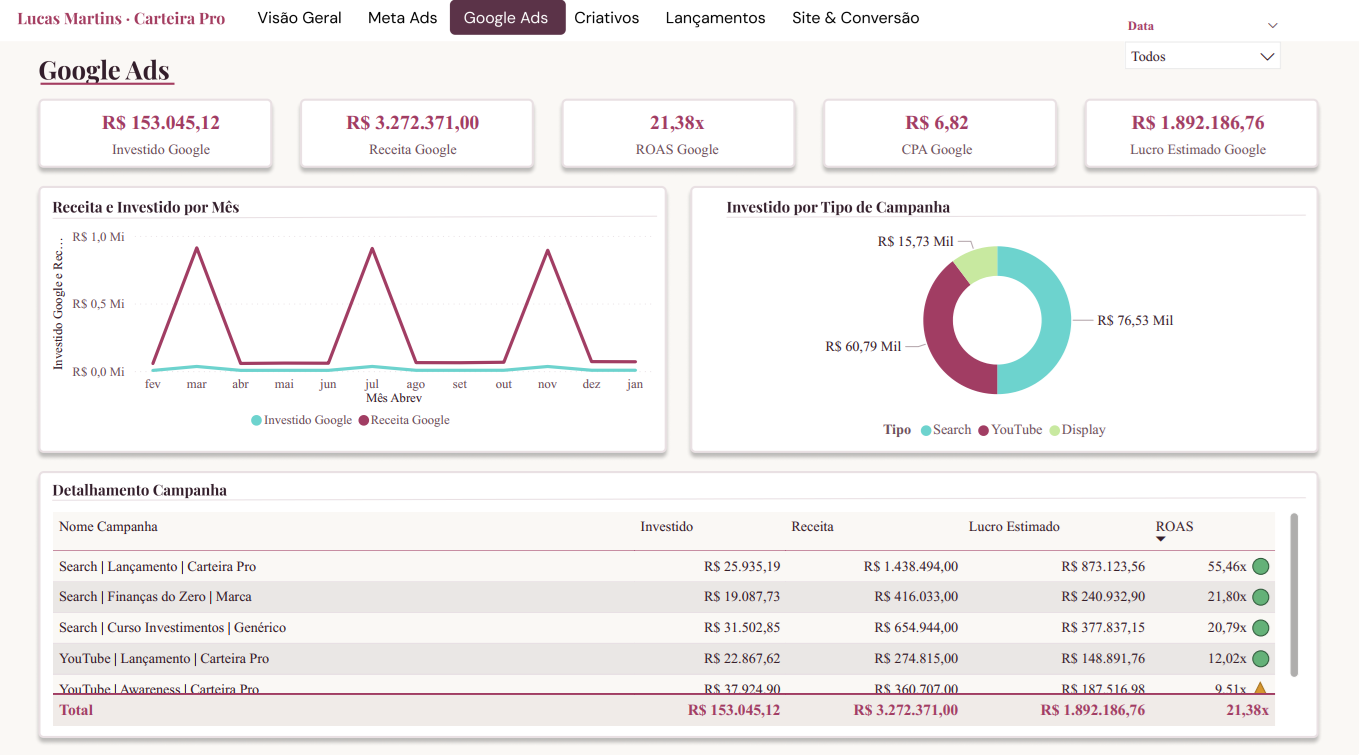

What the dashboard file says about the page in this screenshot:
{"tool":"powerbi","page":{"name":"Google","canvas":[1280,720],"ordinal":2},"visuals":[{"type":"card","fields":{"Values":["Medidas.Investido Google"]},"box":[45.7,98.6,214.3,67.1],"z":0},{"type":"card","fields":{"Values":["Medidas.Receita Google"]},"box":[287.1,98.6,205.7,67.1],"z":1000},{"type":"card","fields":{"Values":["Medidas.ROAS Google"]},"box":[541.4,98.6,195.7,67.1],"z":2000},{"type":"card","fields":{"Values":["Medidas.CPA Google"]},"box":[785.7,98.6,195.7,67.1],"z":3000},{"type":"lineChart","title":"Investido e Receita","fields":{"Y":["Medidas.Investido Google","Medidas.Receita Google"],"Category":["Calendário.Mês Abrev"]},"box":[45.7,217.1,575.7,205.7],"z":4000},{"type":"donutChart","title":"Investido por Tipo","fields":{"Category":["google_ads_data.campaign_type"],"Y":["Medidas.Investido Google"]},"box":[651.4,217.1,577.1,215.7],"z":5000},{"type":"tableEx","title":"Detalhamento Campanhas","fields":{"Values":["google_ads_data.campaign_name","Medidas.Investido Google","Medidas.Receita Google","Medidas.Campanha Google Lucro Estimado","Medidas.Campanha Google ROAS"]},"box":[45.7,485.7,1182.9,211.4],"z":6000},{"type":"card","fields":{"Values":["Medidas.Lucro Estimado Google"]},"box":[1024.3,98.6,210,67.1],"z":7000},{"type":"actionButton","box":[241.7,4.9,87.1,40.5],"z":8000},{"type":"actionButton","box":[328.8,4.9,99.4,40.5],"z":9000},{"type":"actionButton","box":[525.2,4.9,99.4,40.5],"z":10000},{"type":"actionButton","box":[624.5,4.9,106.7,40.5],"z":11000},{"type":"actionButton","box":[742.3,6.1,128.8,40.5],"z":12000},{"type":"slicer","fields":{"Values":["Calendário.Date.Variation.Hierarquia de datas.Ano","Calendário.Date.Variation.Hierarquia de datas.Mês"]},"box":[1050.3,20.9,166.9,55.2],"z":13000}]}

Visuals, with their boxes in screenshot pixels (x1, y1, x2, y2), scaled from the page's 1280x720 canvas onto the 1361x755 screenshot:
card - Medidas.Investido Google: BBox(49, 103, 276, 174)
card - Medidas.Receita Google: BBox(305, 103, 524, 174)
card - Medidas.ROAS Google: BBox(576, 103, 784, 174)
card - Medidas.CPA Google: BBox(835, 103, 1044, 174)
"Investido e Receita" lineChart: BBox(49, 228, 661, 443)
"Investido por Tipo" donutChart: BBox(693, 228, 1306, 454)
"Detalhamento Campanhas" tableEx: BBox(49, 509, 1306, 731)
card - Medidas.Lucro Estimado Google: BBox(1089, 103, 1312, 174)
actionButton: BBox(257, 5, 350, 48)
actionButton: BBox(350, 5, 455, 48)
actionButton: BBox(558, 5, 664, 48)
actionButton: BBox(664, 5, 777, 48)
actionButton: BBox(789, 6, 926, 49)
slicer - Calendário.Date.Variation.Hierarquia de datas.Ano x Calendário.Date.Variation.Hierarquia de datas.Mês: BBox(1117, 22, 1294, 80)
